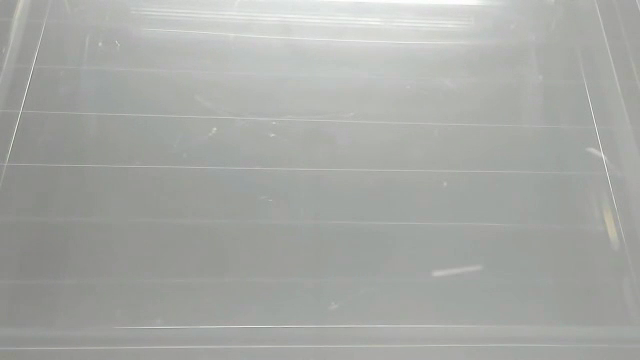alpha: (429, 263, 489, 280)
